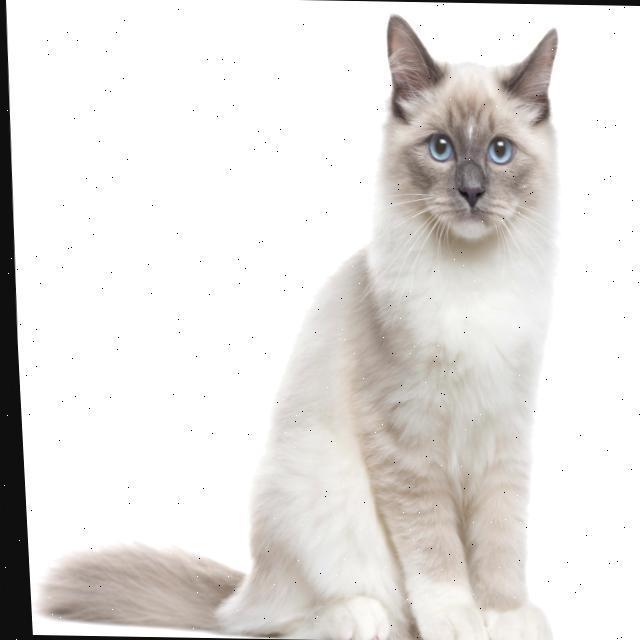Neva Masquerade: (0, 0, 589, 640)
